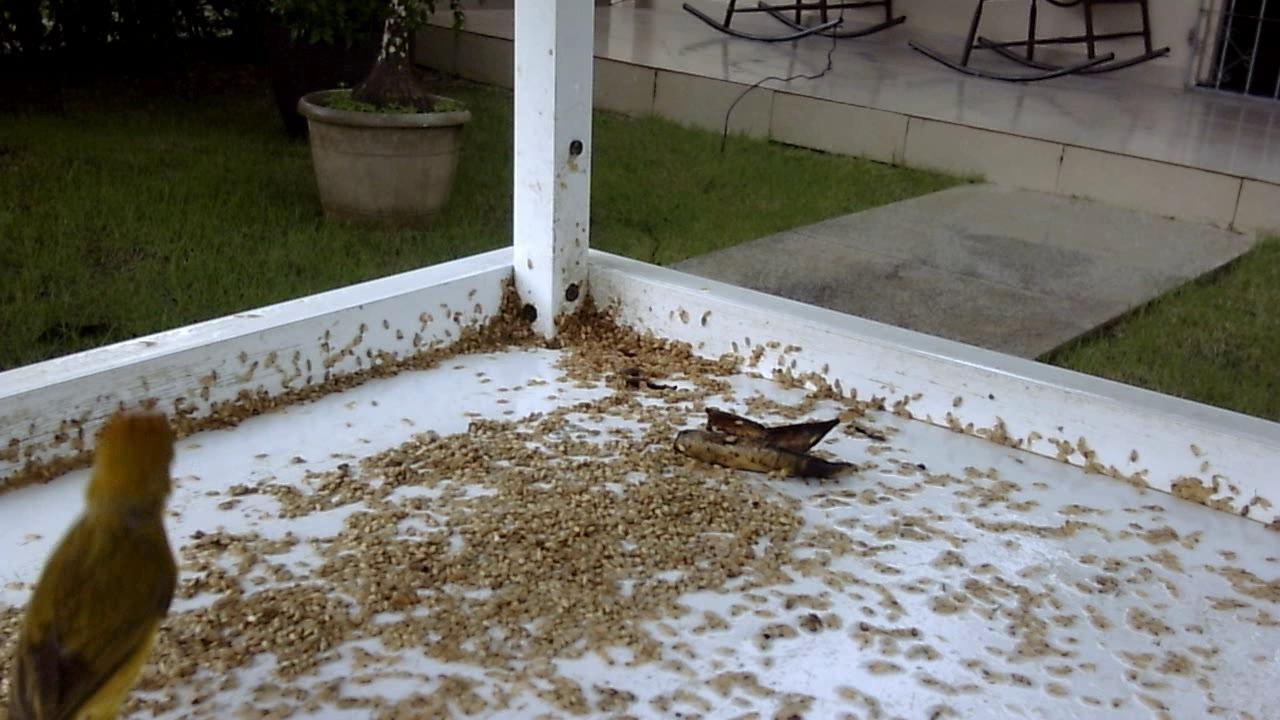canario_do_amazonas: (3, 408, 192, 716)
